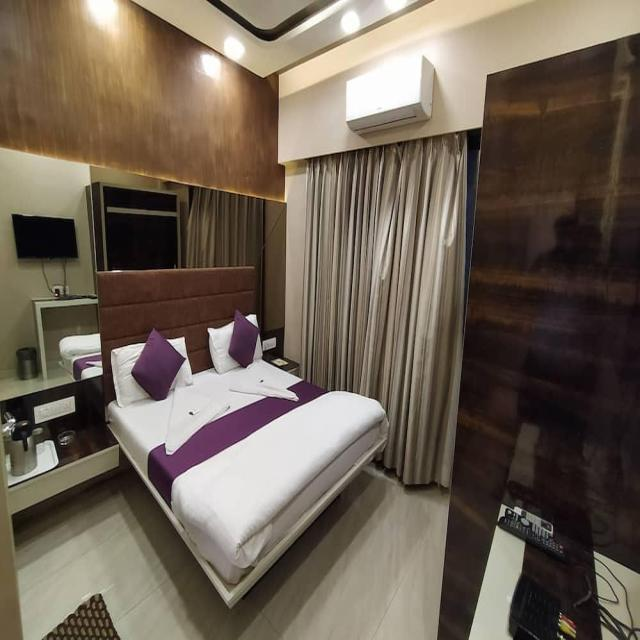Monitor: (1, 193, 100, 279)
sofa: (94, 264, 390, 610)
